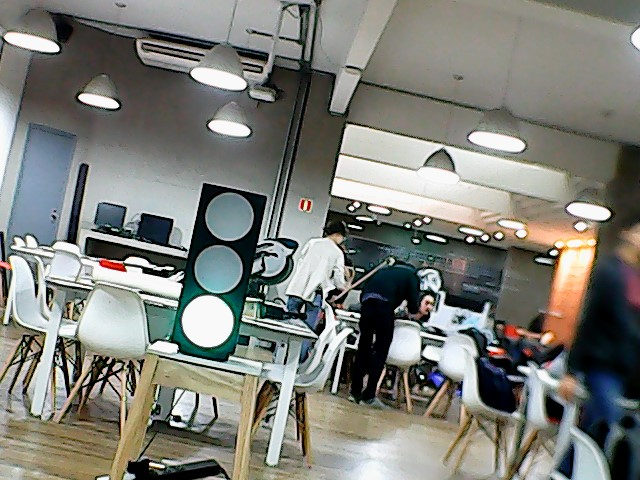verde: (163, 180, 271, 364)
